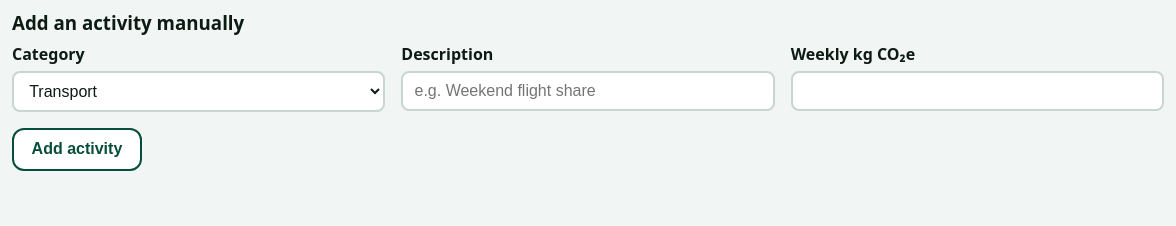
Test: AddActivityForm › adds a valid activity and clears the form
Type "Flight" into the field labelled "Description" at (588, 91), box [401, 71, 775, 111]
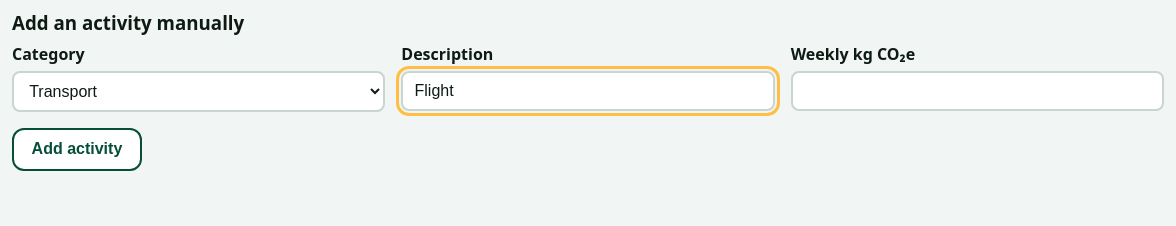
Type "12" into the number field labelled "Weekly kg CO₂e" at (977, 91), box [791, 71, 1164, 111]
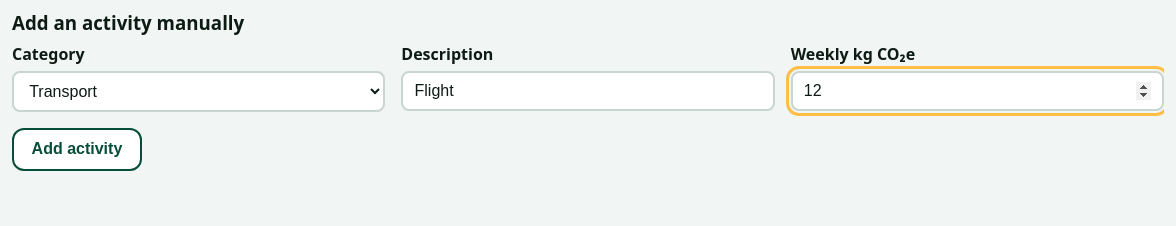
Click the button "Add activity" at (77, 149), box [12, 128, 142, 171]
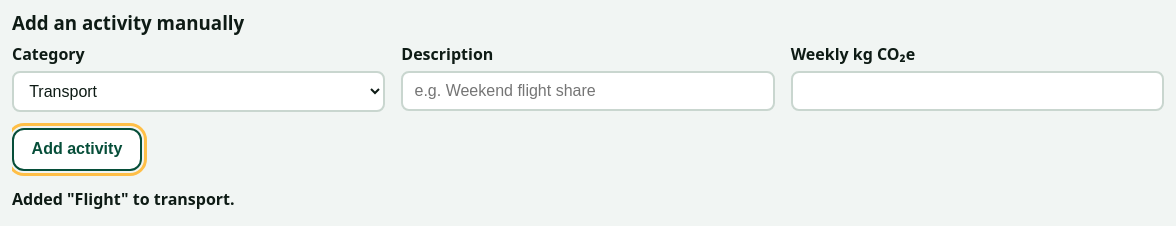
Now the message shows "Added", box [12, 188, 235, 210]
